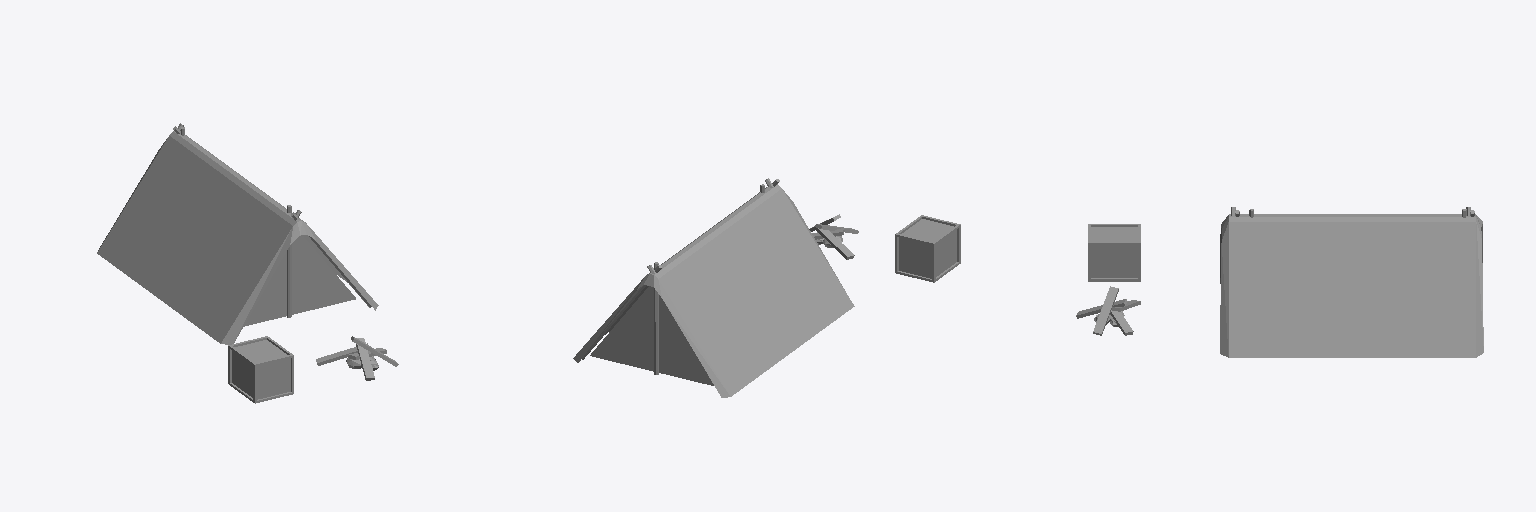
File: Tent.obj
The picture shows the model from 3 angles: view 1: azimuth 30°, elevation 25°; view 2: azimuth 150°, elevation 25°; view 3: azimuth 270°, elevation 25°; orthographic projection.
Visible parts, largest first — view 1: Tent_Cube, FoodCrate_Cube.002, Campfire_Cube.001; view 2: Tent_Cube, FoodCrate_Cube.002, Campfire_Cube.001; view 3: Tent_Cube, FoodCrate_Cube.002, Campfire_Cube.001.
Part boxes in pixels (left/top/right/bottom): Tent_Cube: left=97, top=123, right=378, bottom=344; FoodCrate_Cube.002: left=228, top=336, right=293, bottom=403; Campfire_Cube.001: left=316, top=336, right=398, bottom=380; Tent_Cube: left=573, top=178, right=854, bottom=397; FoodCrate_Cube.002: left=895, top=215, right=960, bottom=282; Campfire_Cube.001: left=809, top=214, right=858, bottom=259; Tent_Cube: left=1220, top=207, right=1483, bottom=357; FoodCrate_Cube.002: left=1088, top=224, right=1140, bottom=281; Campfire_Cube.001: left=1076, top=286, right=1140, bottom=335.
Bounding box in the file's own units: 4.23 × 2.35 × 7.7.